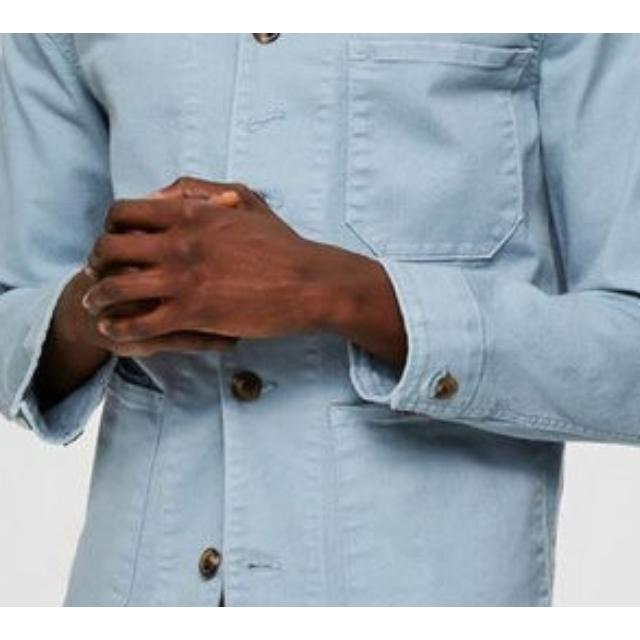cotton: (0, 34, 640, 164)
